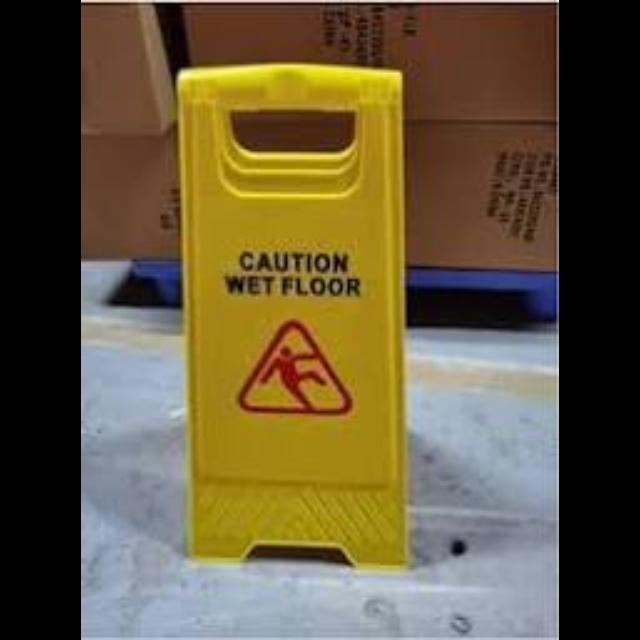tron truot: (181, 65, 407, 565)
